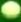white: (0, 0, 21, 22)
